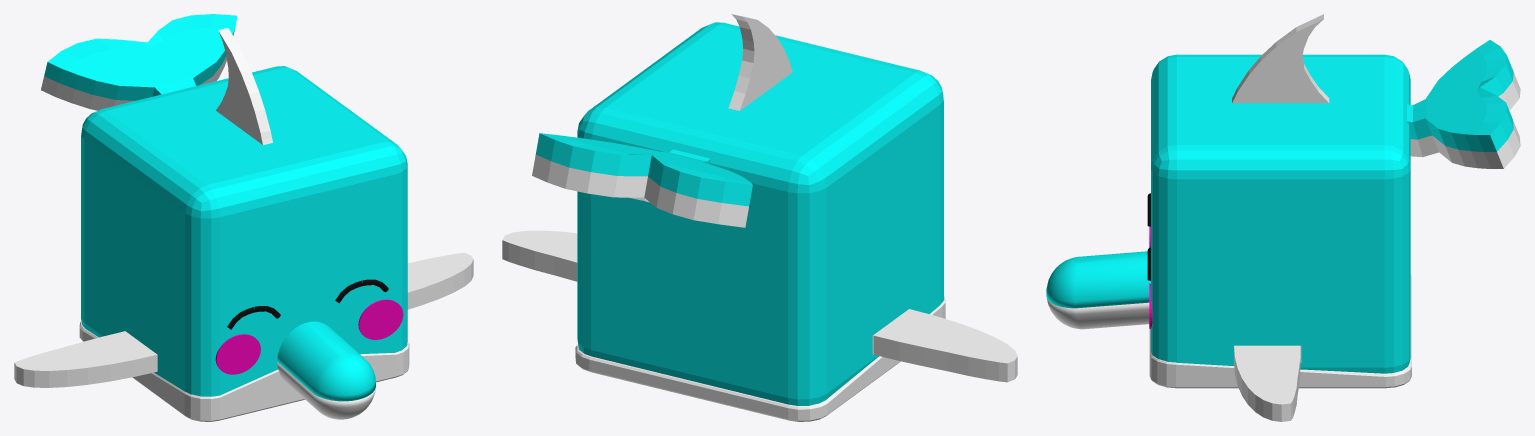
Rendered from Dolphin.fbx.
The picture shows the model from 3 angles, left to right: view 1: azimuth 30°, elevation 25°; view 2: azimuth 150°, elevation 25°; view 3: azimuth 270°, elevation 25°; orthographic projection. The views are drawn at different scales.
Visible parts, largest first — view 1: Dolphin; view 2: Dolphin; view 3: Dolphin.
Part boxes in pixels (x1,y1,x2,y2): Dolphin: (14,14,473,421); Dolphin: (502,14,1017,421); Dolphin: (1046,14,1520,421).
Bounding box in the file's own units: 415 × 272 × 365.
